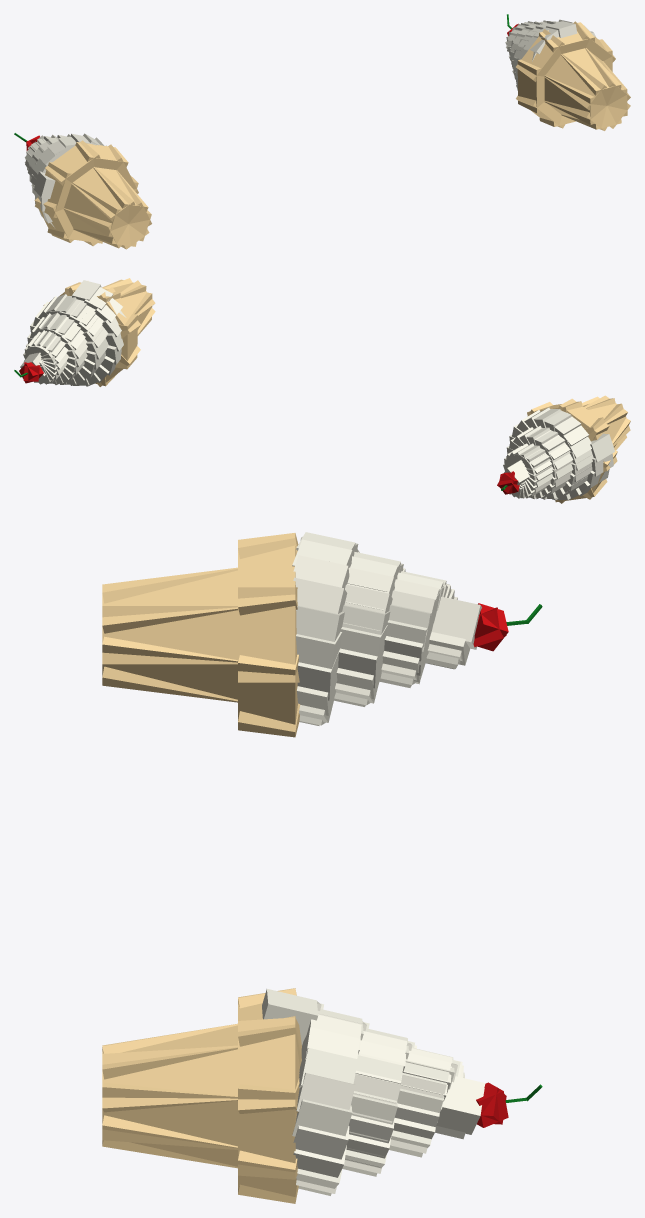
The model's file is icecream.dae.
3 views of the same model, one above another, from view 1: azimuth 30°, elevation 25°; view 2: azimuth 150°, elevation 25°; view 3: azimuth 270°, elevation 25° (orthographic). The views are drawn at different scales.
Parts seen in each view (by area): view 1: Cube.208, Cube.310, Cube.002, Cube.317, Cube.312, Cube.220, Cube.325, Cube.318, Cube.209, Cube.001, Cube.221, Cube.222 (+9 smaller); view 2: Cube.220, Cube.325, Cube.318, Cube.310, Cube.235, Cube.002, Cube.208, Cube.326, Cube.317, Cube.328, Cube.308; view 3: Cube.311, Cube.210, Cube.313, Cube.209, Cube.215, Cube.319, Cube.231, Cube.321, Cube.233, Cube.222, Cube.312, Cube.314 (+26 smaller).
Part boxes in pixels (box(x1,y1,x2,y2)): Cube.208: box(63, 182, 127, 236); Cube.310: box(544, 54, 606, 110); Cube.002: box(71, 167, 135, 223); Cube.317: box(544, 75, 606, 124); Cube.312: box(561, 48, 621, 105); Cube.220: box(45, 140, 100, 185); Cube.325: box(517, 59, 544, 113); Cube.318: box(516, 29, 564, 81); Cube.209: box(93, 167, 148, 223); Cube.001: box(63, 208, 127, 248); Cube.221: box(35, 162, 71, 217); Cube.222: box(75, 142, 128, 169); Cube.220: box(558, 398, 609, 441); Cube.325: box(115, 314, 137, 369); Cube.318: box(98, 287, 140, 338); Cube.310: box(120, 280, 155, 315); Cube.235: box(590, 433, 614, 462); Cube.002: box(584, 395, 627, 424); Cube.208: box(604, 403, 630, 446); Cube.326: box(72, 280, 101, 300); Cube.317: box(133, 292, 152, 335); Cube.328: box(94, 298, 122, 322); Cube.308: box(504, 460, 530, 485); Cube.311: box(102, 1045, 237, 1112); Cube.210: box(102, 606, 237, 664); Cube.313: box(102, 1082, 237, 1149); Cube.209: box(102, 567, 237, 633); Cube.215: box(102, 636, 237, 702); Cube.319: box(238, 1017, 301, 1113); Cube.231: box(238, 587, 299, 682); Cube.321: box(238, 1078, 299, 1179); Cube.233: box(238, 654, 299, 737); Cube.222: box(238, 533, 298, 615); Cube.312: box(102, 1023, 237, 1079); Cube.314: box(102, 1115, 237, 1166).
Size of the model in its own units: 439 by 148 by 74.43.
